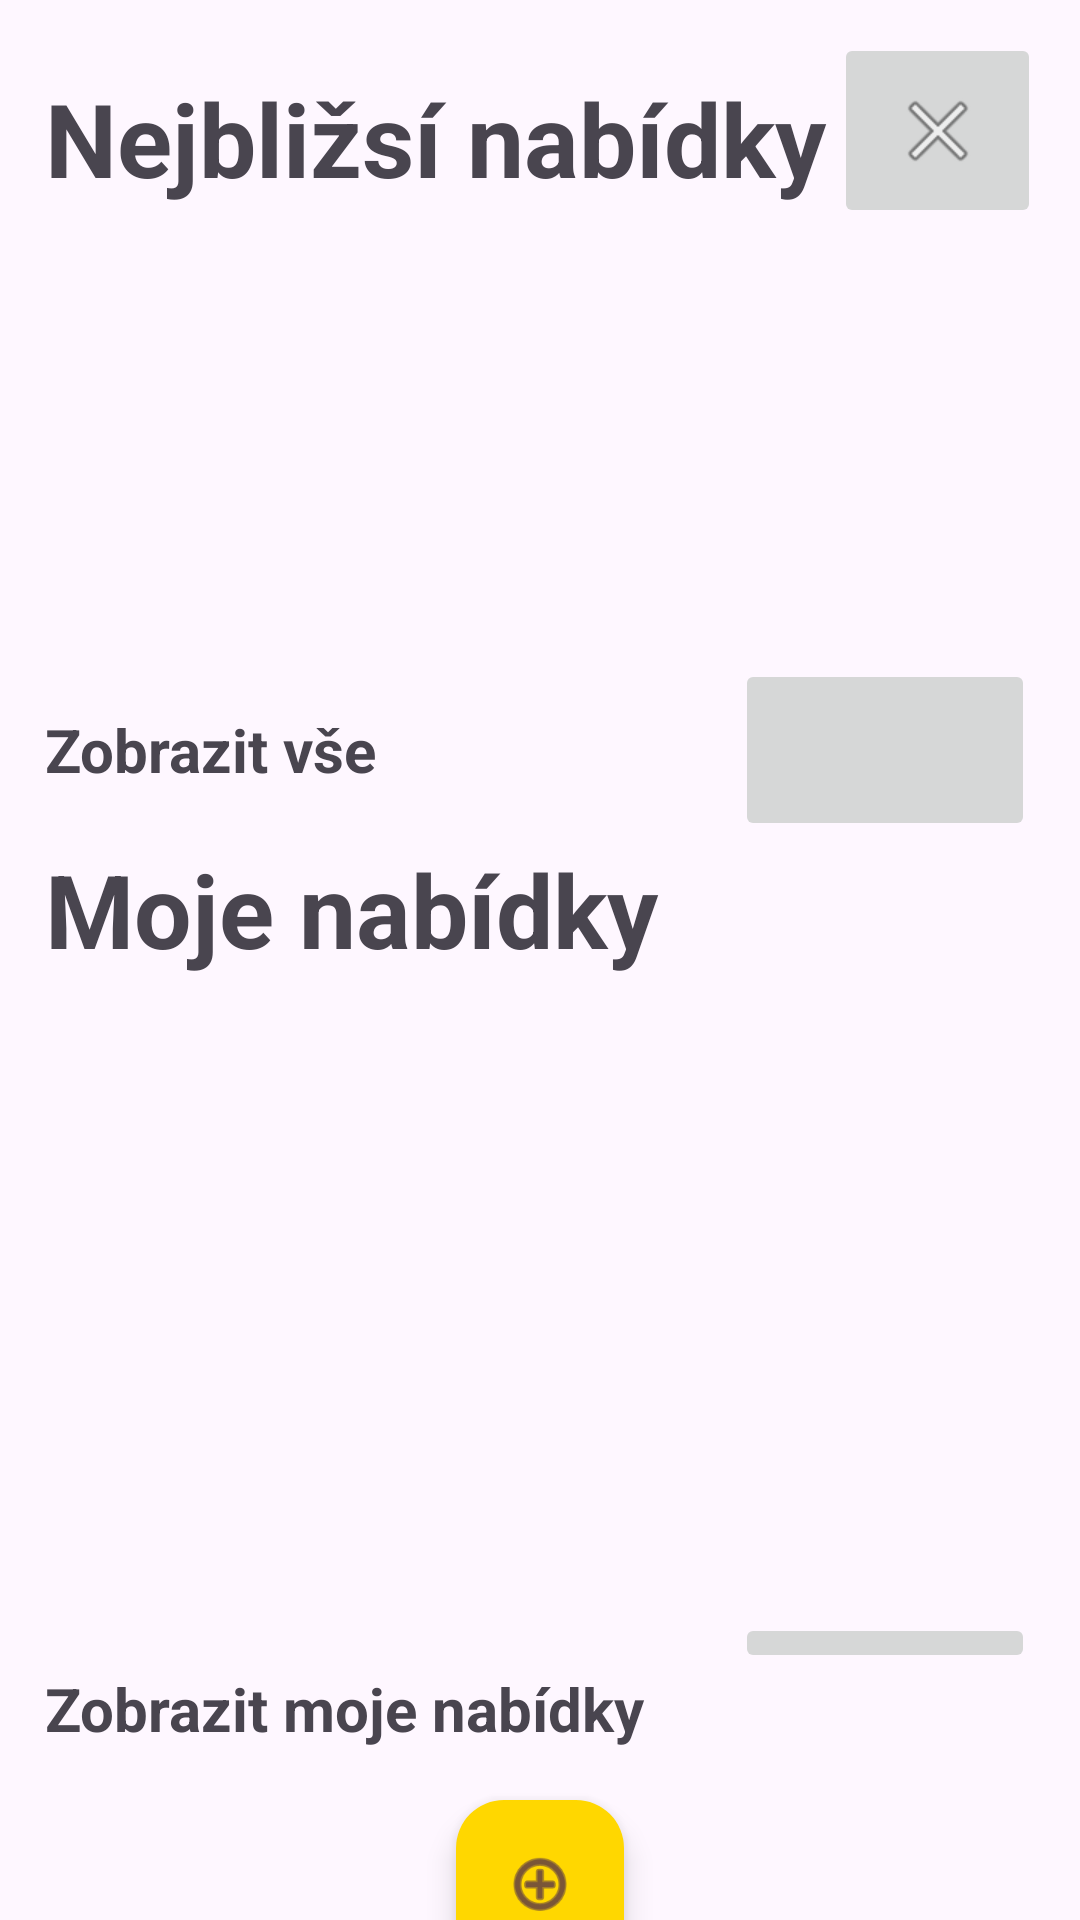

Point at icon controls on the screen. Image size 1080px x 1920px, points as (x,y).
close clear cancel: (937,130)
